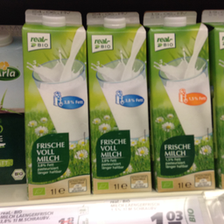milk: (145, 8, 221, 192), (21, 7, 92, 201), (87, 13, 155, 194)
